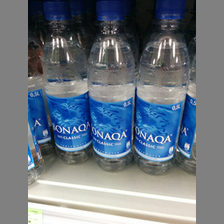water: (135, 1, 191, 175), (39, 1, 90, 166), (87, 1, 135, 172)
